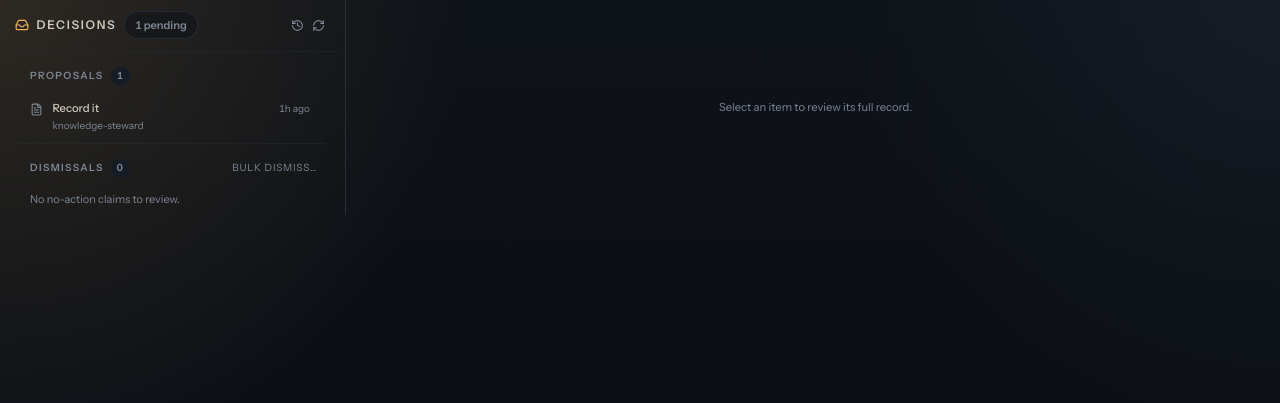
DecisionsView proposal pane › names the partition a private episode is FOR when it is not the drafter
Click the text "Record it" at (76, 108), box [52,101,99,115]
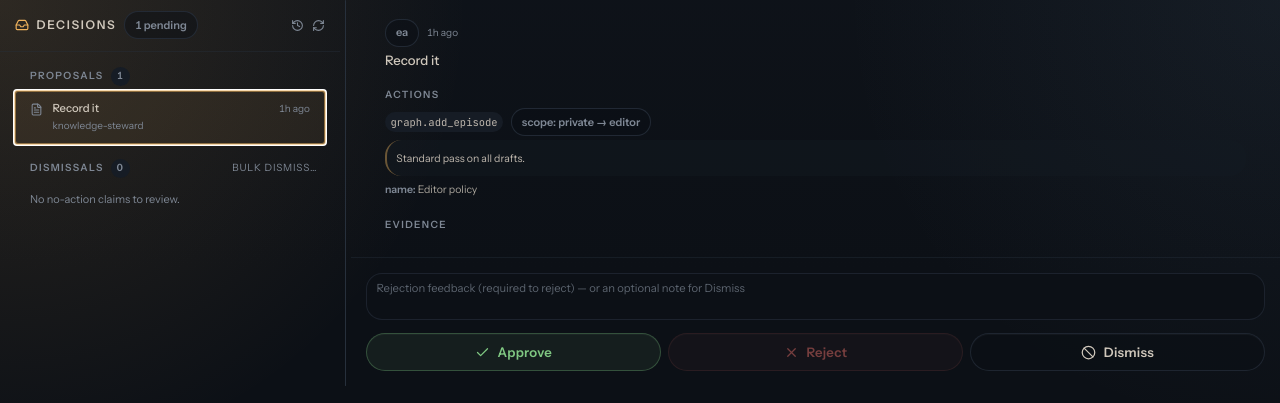
Result: the text "scope: private → editor" is shown at [511,108,651,136]
